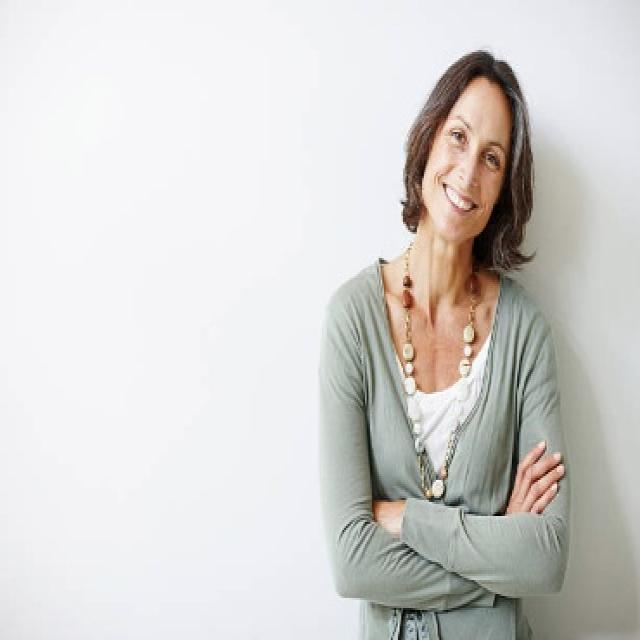adult: (314, 51, 570, 640)
